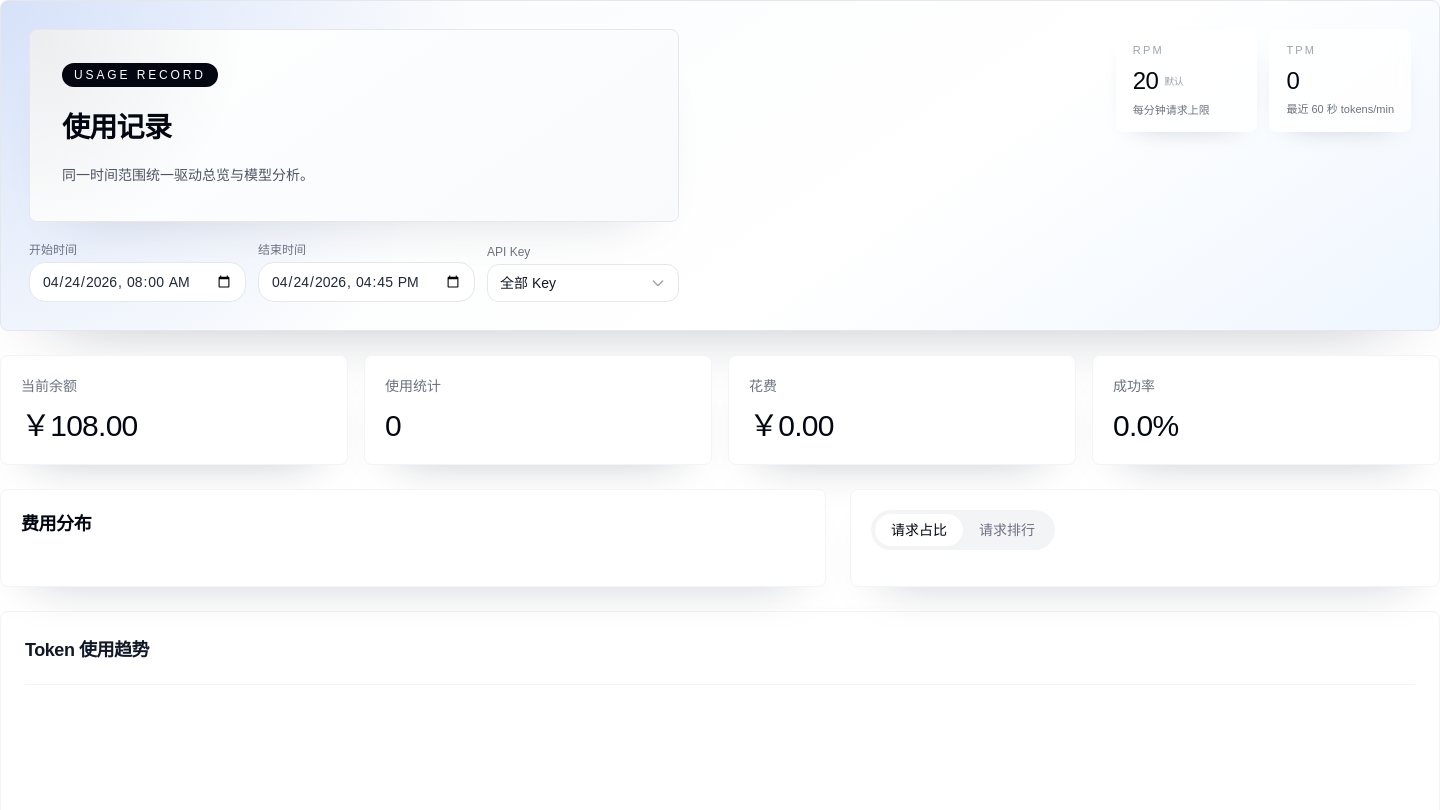
Test: UsageRecordPage › renders empty analytics as visual chart placeholders without no-data chart copy
Click the button "请求排行". click: (1007, 530)
box: [963, 514, 1051, 546]
(page scrolled)
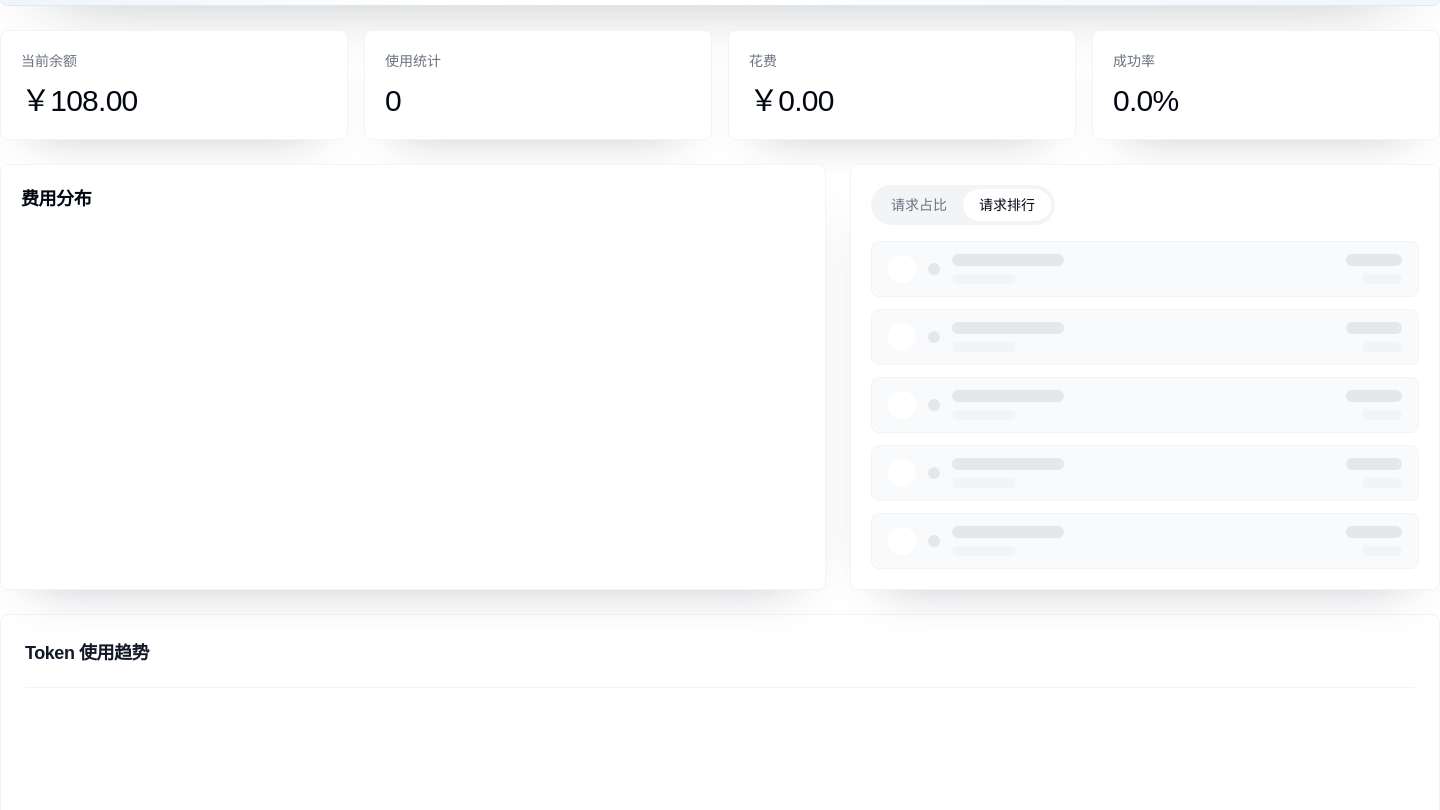
Check: the element with test id "usage-ranking-empty" is shown, box [871, 241, 1419, 569]
